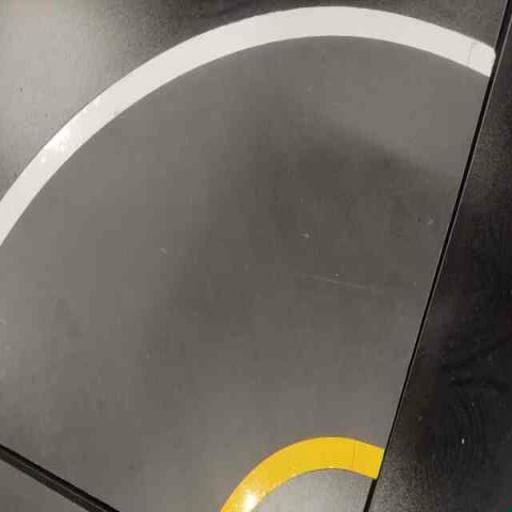left: (64, 13, 496, 511)
